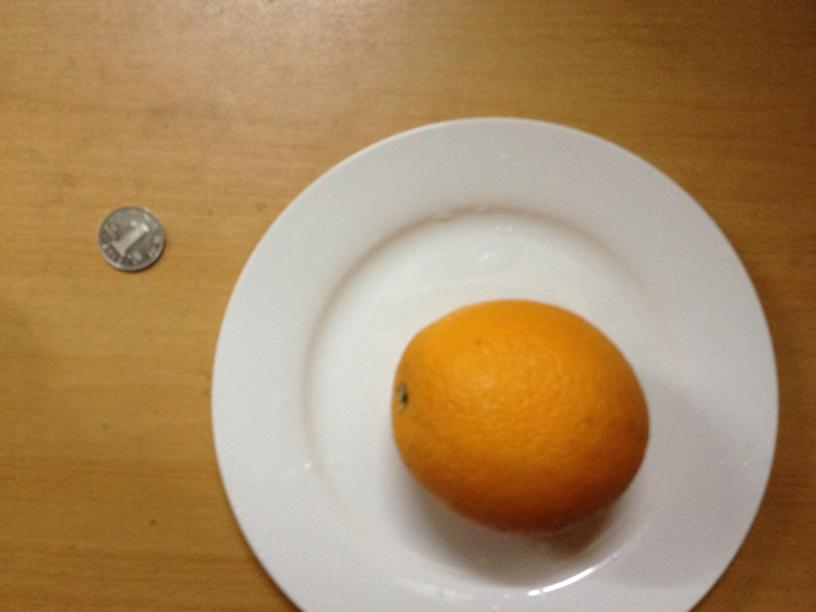coin: (96, 207, 164, 271)
orange: (396, 297, 648, 531)
